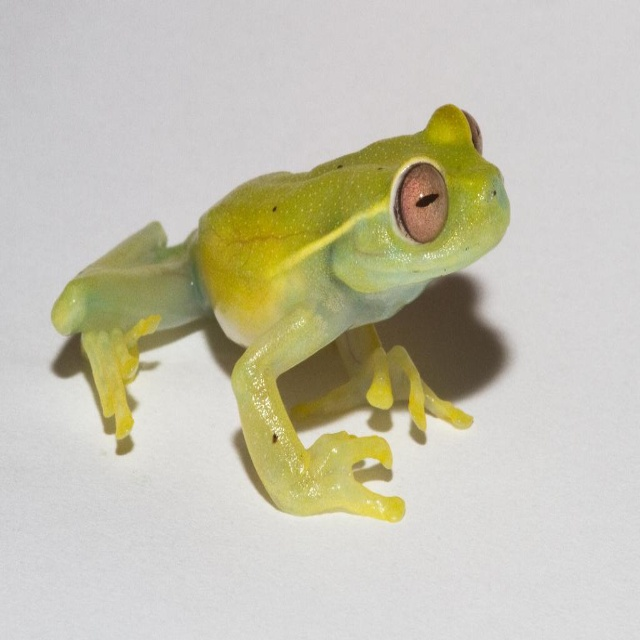Frog: (46, 100, 511, 517)
